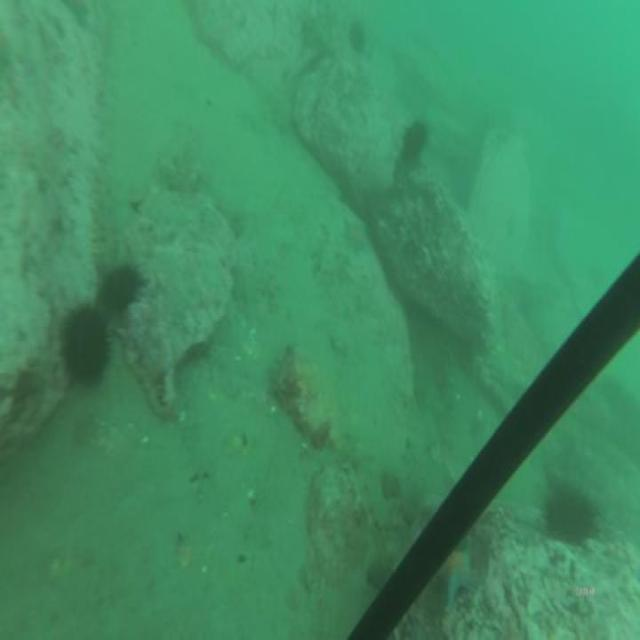echinus: (62, 304, 110, 388), (548, 486, 596, 544), (102, 264, 137, 313), (404, 118, 425, 156), (348, 19, 366, 55)
holothurian: (92, 172, 114, 270)
starfish: (441, 542, 475, 599)
